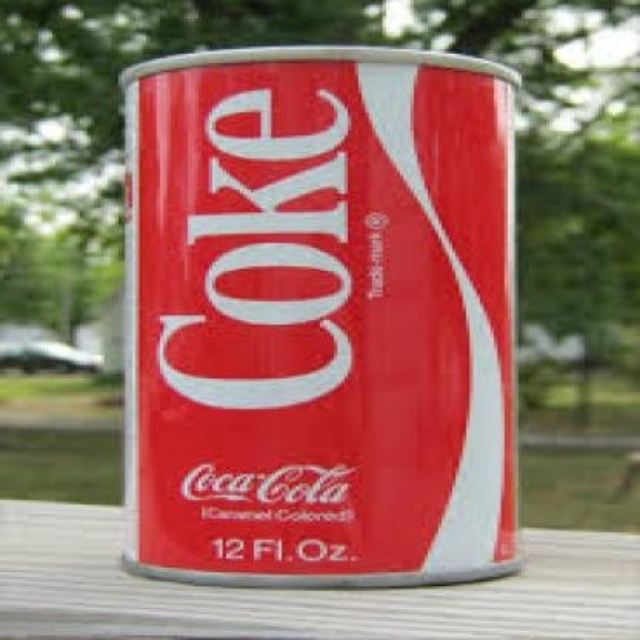trash: (123, 48, 517, 583)
